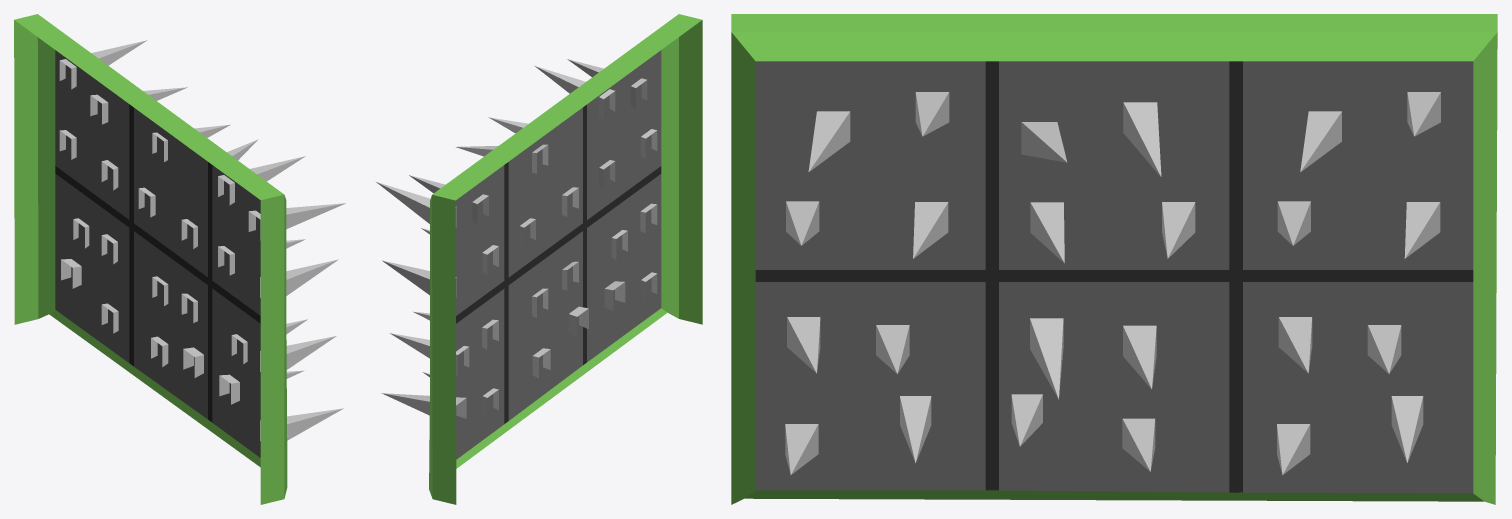
File: Spikewall3.fbx
3 views of the same model, side by side, from view 1: azimuth 30°, elevation 25°; view 2: azimuth 150°, elevation 25°; view 3: azimuth 270°, elevation 25° (orthographic). The views are drawn at different scales.
Visible parts, largest first — view 1: Plane; view 2: Plane; view 3: Plane.
Part boxes in pixels (bbox=[...]): Plane: bbox=[14, 14, 345, 504]; Plane: bbox=[376, 14, 702, 504]; Plane: bbox=[731, 14, 1497, 504].
Size of the model in its own units: 0.7622 by 2 by 2.94.
